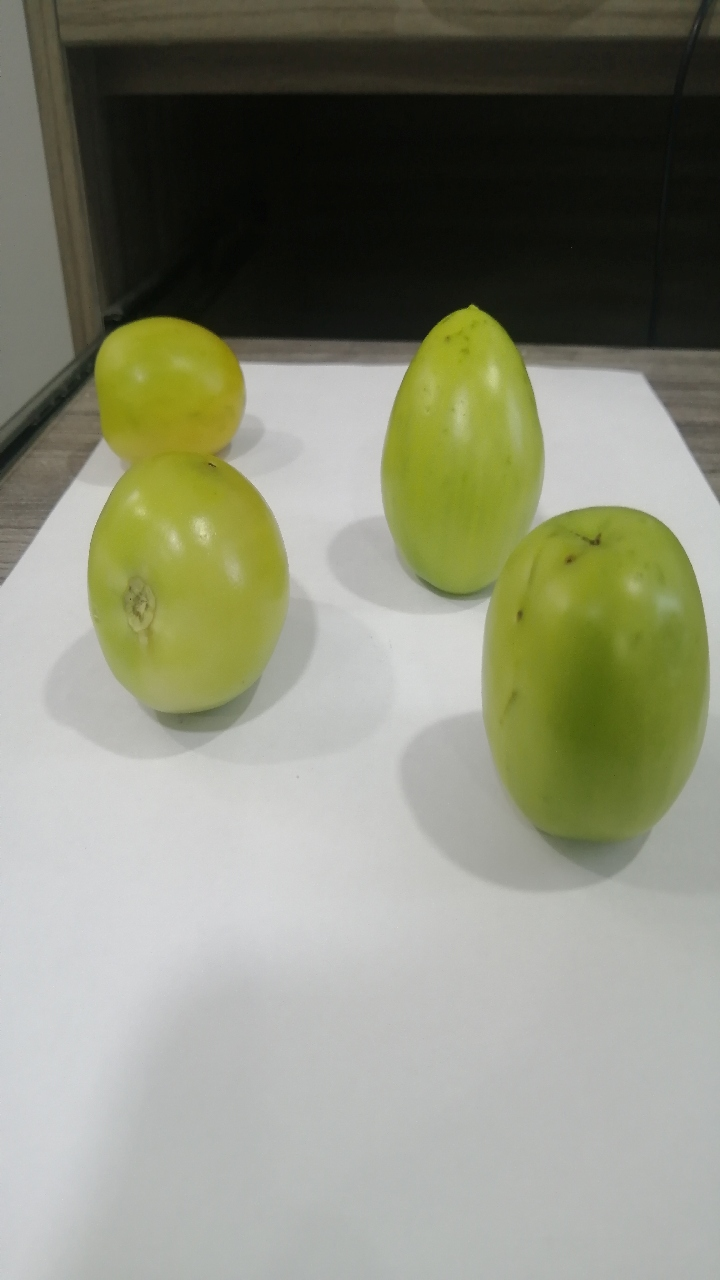tomateVerde: (468, 494, 720, 886), (360, 292, 583, 614), (77, 432, 284, 729), (77, 303, 272, 480)
